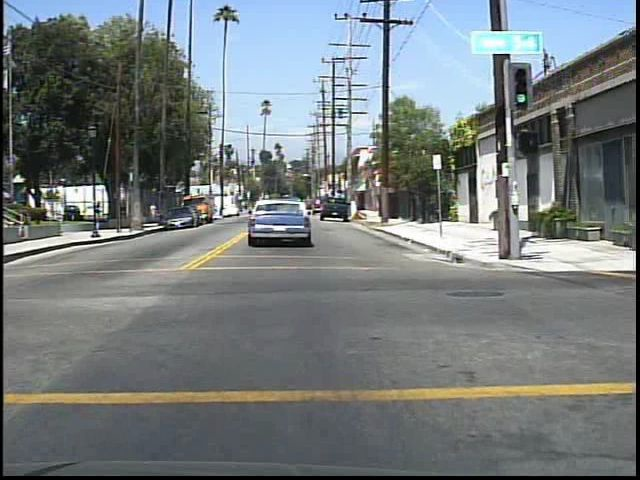person: (148, 198, 161, 222), (117, 194, 130, 218), (92, 197, 104, 219)
